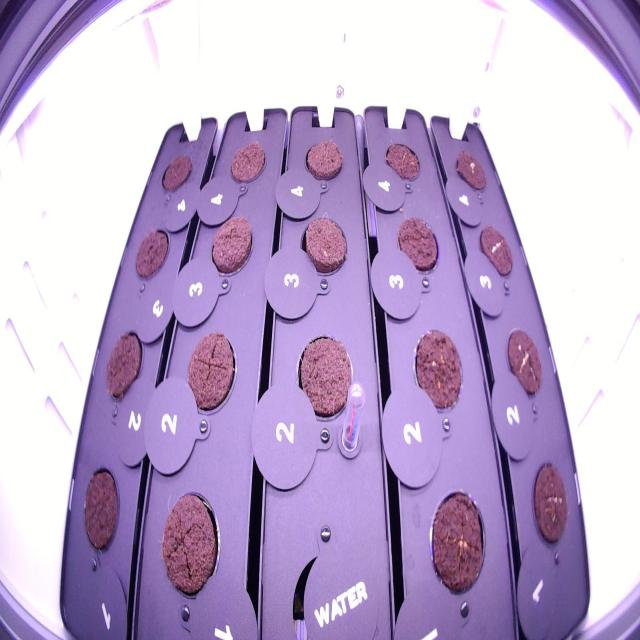pod: (425, 480, 492, 604), (156, 485, 223, 607), (285, 328, 358, 431), (179, 324, 241, 425), (408, 320, 466, 421), (76, 458, 124, 564), (526, 455, 574, 553), (497, 321, 547, 408), (293, 211, 350, 282), (100, 323, 146, 410), (392, 211, 443, 283), (205, 211, 256, 280), (471, 217, 520, 286), (298, 132, 347, 186), (130, 222, 172, 284), (226, 131, 270, 190), (448, 143, 492, 200), (379, 135, 424, 189), (156, 146, 196, 199)
